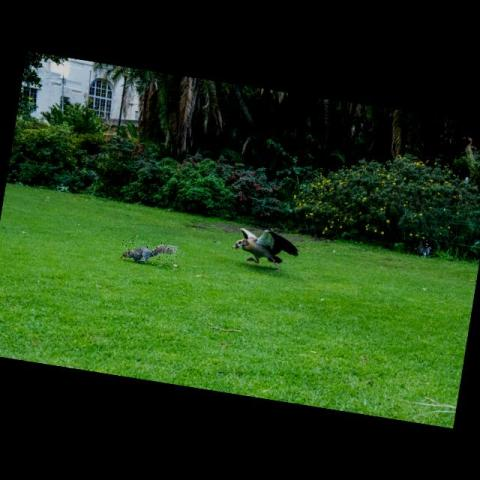bird: (229, 225, 301, 269)
small_animal: (118, 243, 178, 264), (415, 241, 435, 258)
